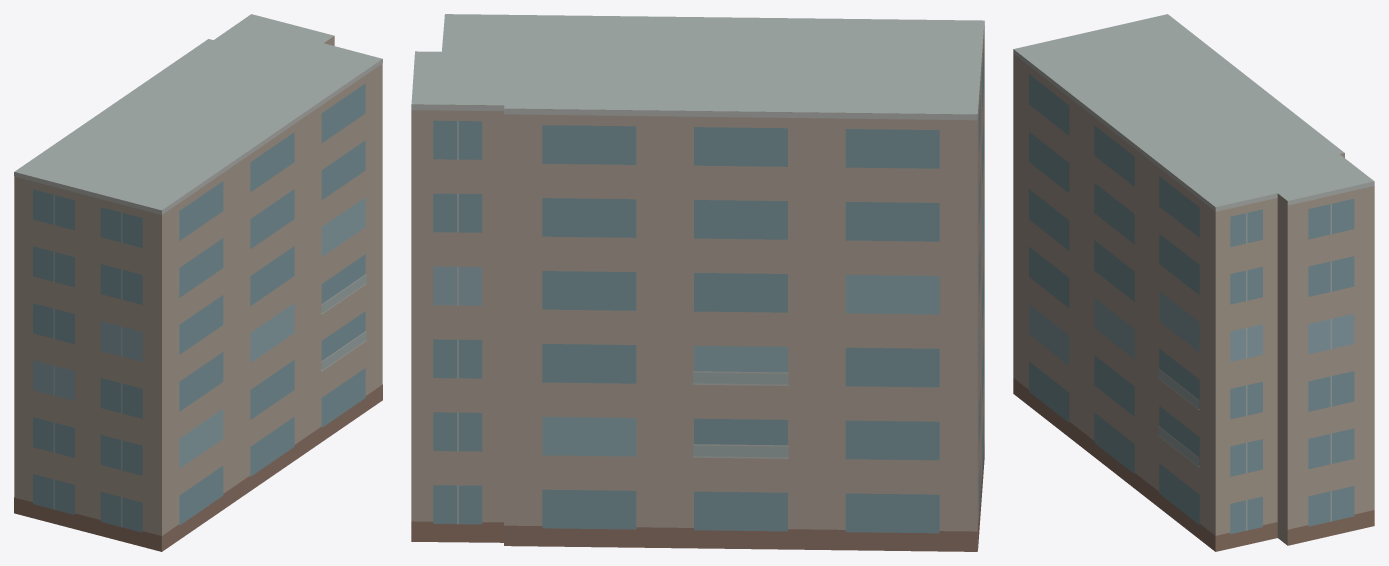
The model's file is survey-upis-32727205.glb.
The picture shows the model from 3 angles, left to right: view 1: azimuth 30°, elevation 25°; view 2: azimuth 150°, elevation 25°; view 3: azimuth 270°, elevation 25°; orthographic projection. The views are drawn at different scales.
Visible parts, largest first — view 1: survey-upis-32727205.tmp; view 2: survey-upis-32727205.tmp; view 3: survey-upis-32727205.tmp.
Part boxes in pixels (x1,y1,x2,y2): survey-upis-32727205.tmp: (14, 14, 382, 551); survey-upis-32727205.tmp: (411, 14, 984, 551); survey-upis-32727205.tmp: (1013, 14, 1374, 551).
Bounding box in the file's own units: 22.01 × 18.3 × 17.39.
